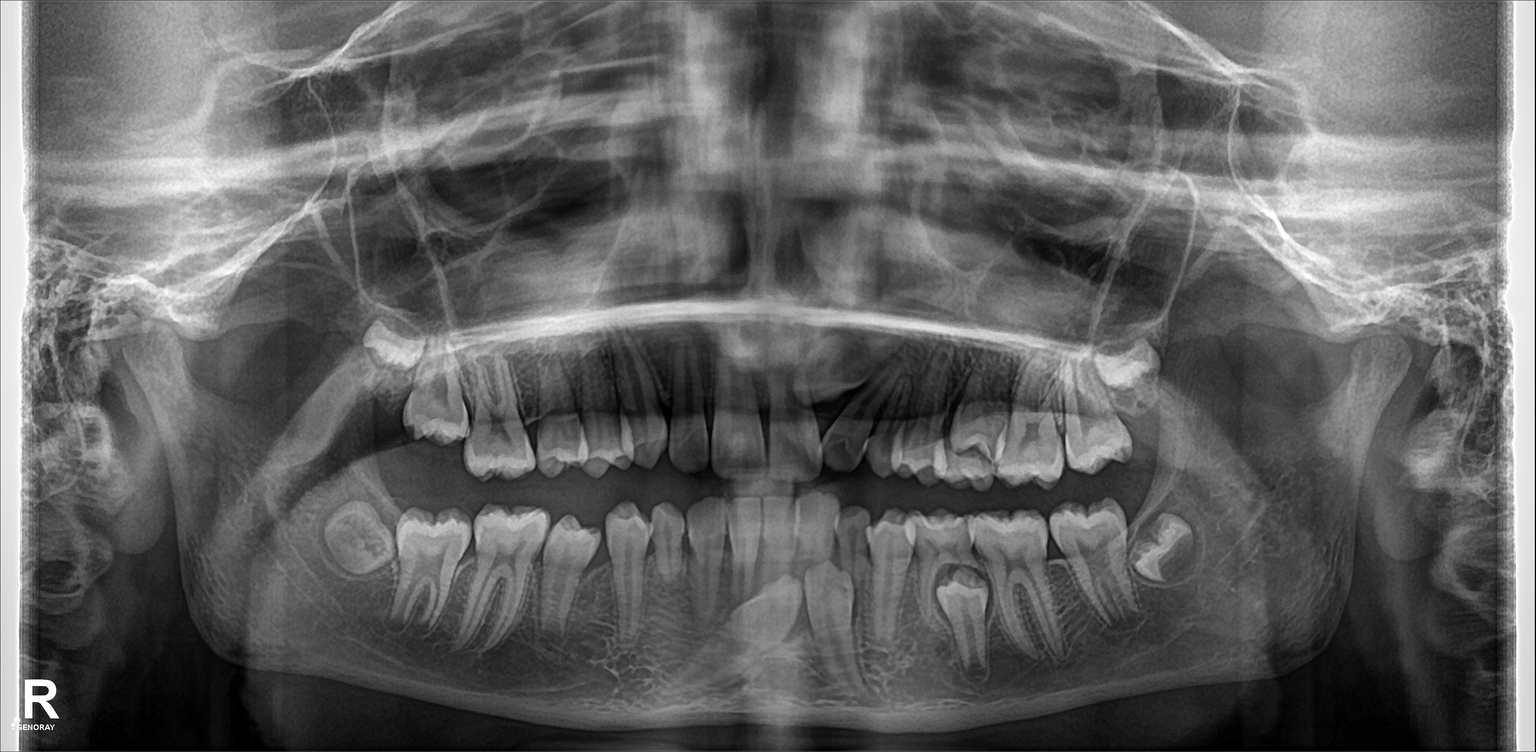Dental Caries: (825, 434, 863, 474)
Impacted Third Molar: (350, 309, 420, 399), (320, 503, 396, 579), (1132, 516, 1205, 585), (1088, 350, 1168, 411)
